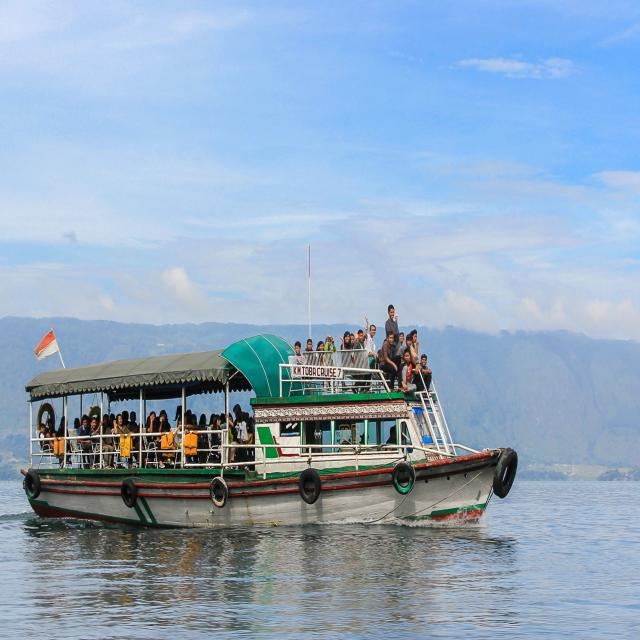houseboat: (27, 289, 511, 521)
